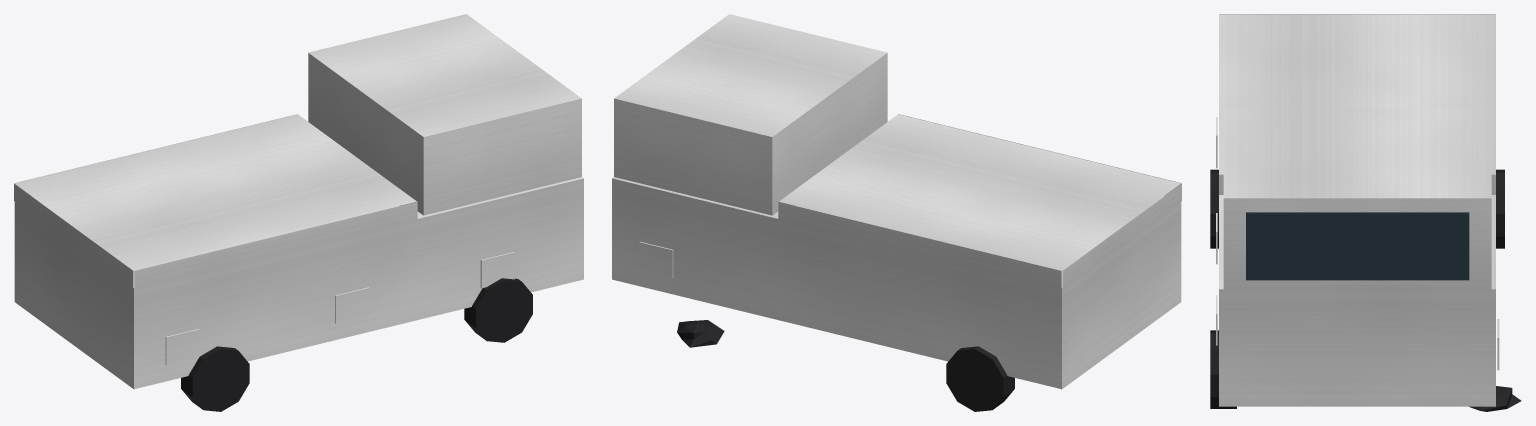
Rendered from wreck_truck.obj.
3 renders of one model, left to right at view 1: azimuth 30°, elevation 25°; view 2: azimuth 150°, elevation 25°; view 3: azimuth 270°, elevation 25°, orthographic. The views are drawn at different scales.
Visible parts, largest first — view 1: wreck_truck; view 2: wreck_truck; view 3: wreck_truck.
Boxes of the visible parts, x1,y1,x2,y2 form: wreck_truck: (14, 14, 583, 411); wreck_truck: (612, 14, 1181, 411); wreck_truck: (1210, 14, 1521, 411).
Size of the model in its own units: 2.71 by 1.26 by 1.4.
